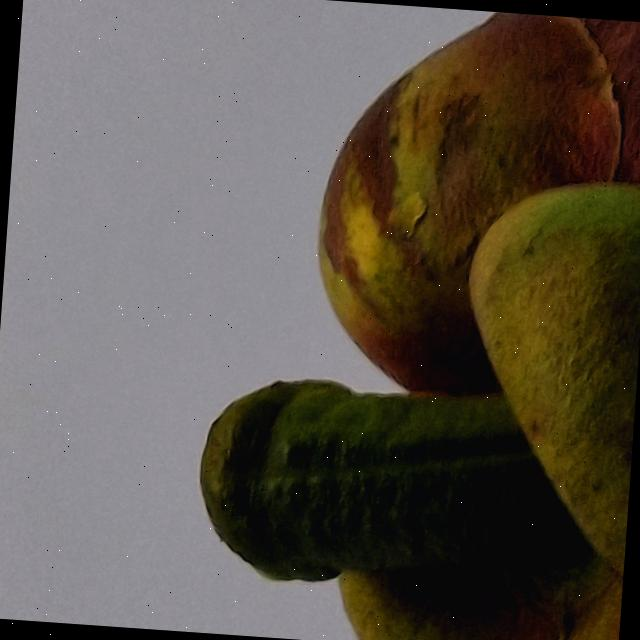mangosteen: (163, 0, 640, 640)
